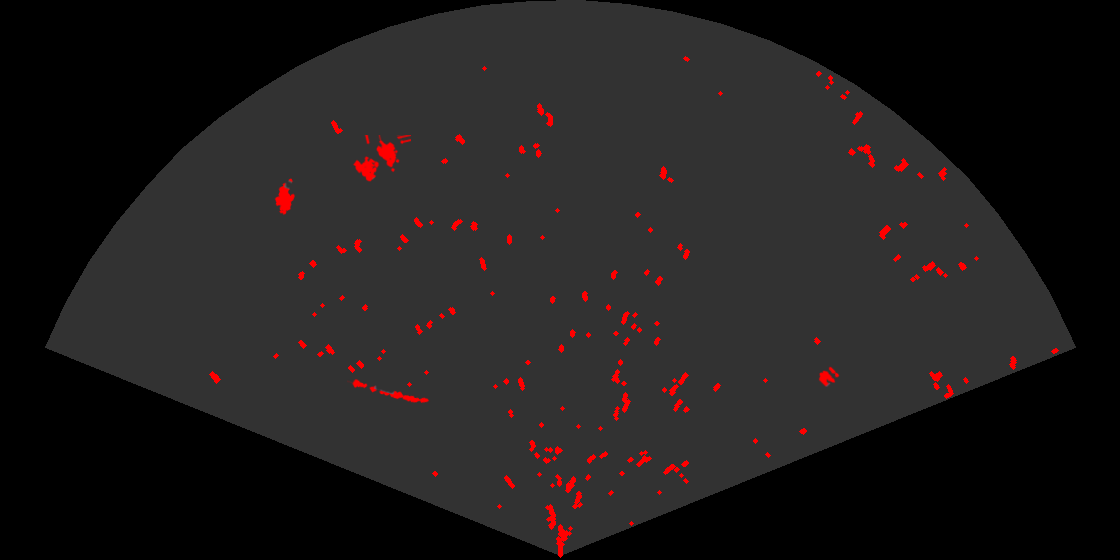AUV: (273, 177, 297, 217)
ball: (817, 365, 841, 388)
cage: (351, 135, 411, 183)
chain: (347, 377, 431, 405)
